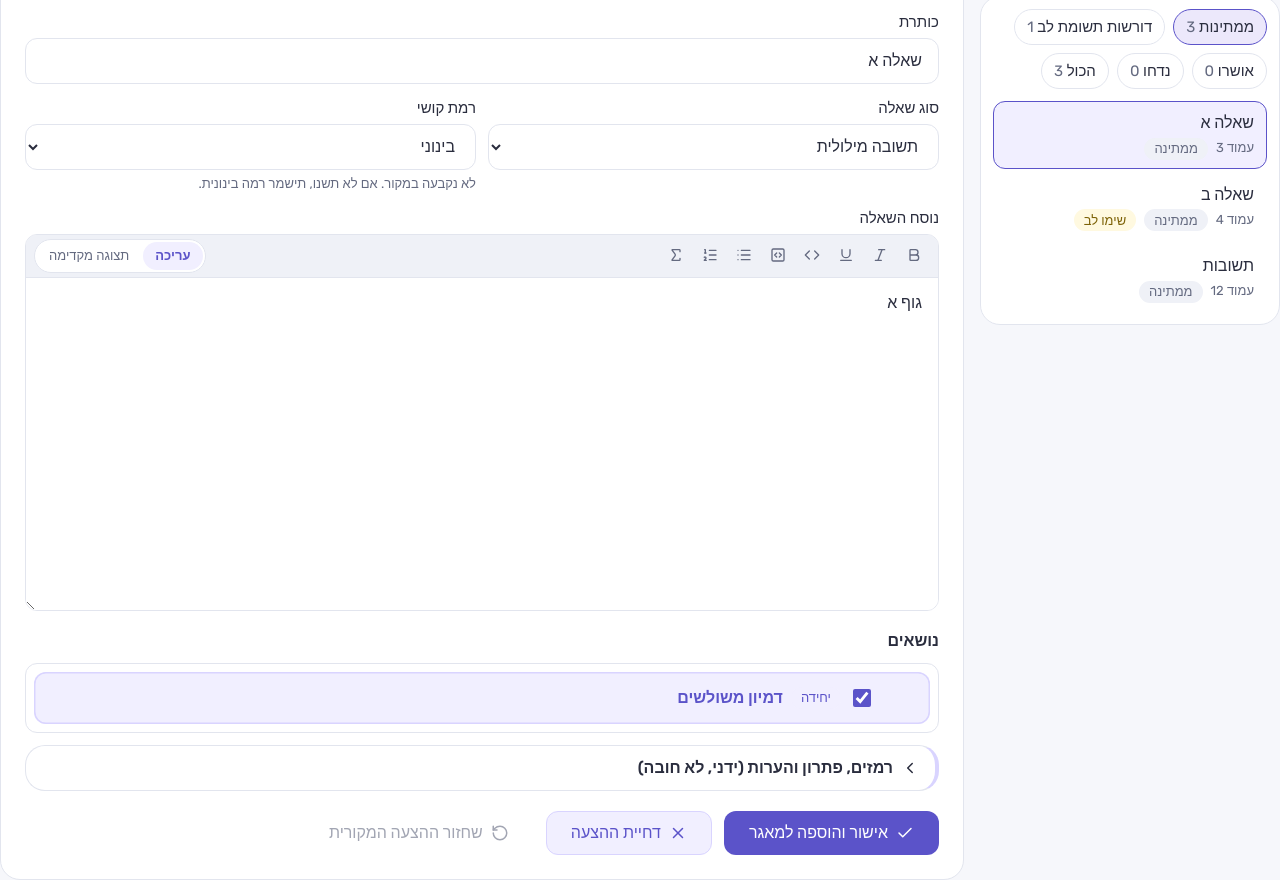
Scenario: ImportReviewPage › approve without a material warning goes straight to approve_import_candidate(id, false) and moves to the next
(page scrolled)
Expected: the field showing "שאלה א" is shown, [25,38,939,84]
Step 1. Click the button "אישור והוספה למאגר" → (831, 832), box [724,810,939,854]
(page scrolled)
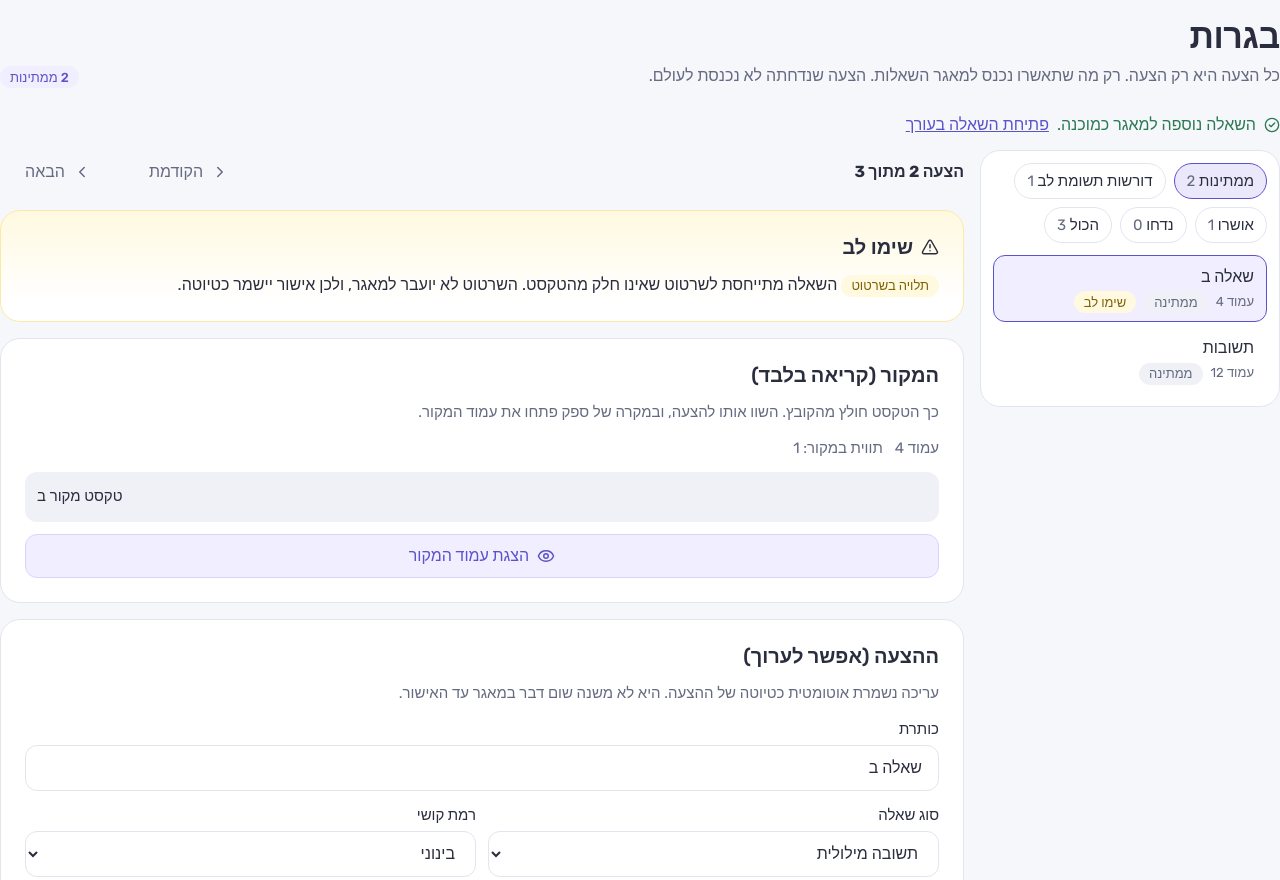
Now the text "השאלה נוספה למאגר כמוכנה." is shown, box [1057,115,1256,134]
Now the field showing "שאלה ב" is shown, box [25,745,939,791]
